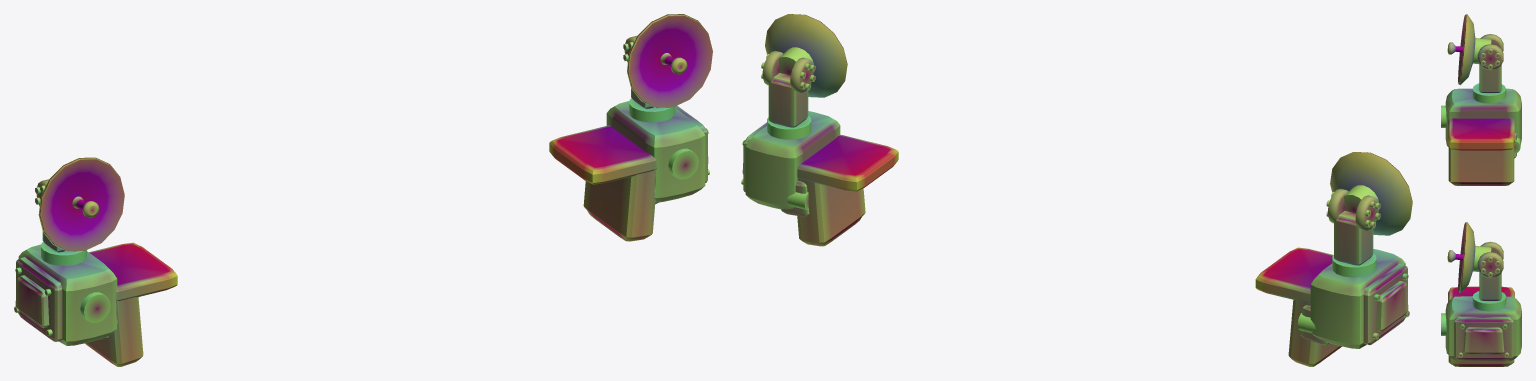
The model's file is llm_gen_shoulder_pods_089_4428ae.glb.
3 renders of one model, left to right at view 1: azimuth 30°, elevation 25°; view 2: azimuth 150°, elevation 25°; view 3: azimuth 270°, elevation 25°, orthographic. The views are drawn at different scales.
Visible parts, largest first — view 1: adapter_shoulder_yoke_r, parabolic_dish_5_wing_white_l, parabolic_dish_5_wing_white_r, adapter_shoulder_yoke_l, radar_housing_0_wing_white_r, radar_housing_0_wing_white_l, adapter_sub_ew_bezel_dark_7_adapter_dark_l, ew_side_plate_blue_8_adapter_dark_l, recon_optic_9_optic_cyan_r, recon_optic_9_optic_cyan_l, adapter_sub_azimuth_base_dark_1_adapter_dark_r, adapter_sub_azimuth_base_dark_1_adapter_dark_l; view 2: adapter_shoulder_yoke_r, radar_housing_0_wing_white_r, radar_housing_0_wing_white_l, adapter_shoulder_yoke_l, parabolic_dish_5_wing_white_l, parabolic_dish_5_wing_white_r, adapter_sub_dish_pedestal_dark_2_adapter_dark_r, adapter_sub_dish_pedestal_dark_2_adapter_dark_l, adapter_sub_ew_bezel_dark_7_adapter_dark_l, ew_side_plate_blue_8_adapter_dark_l, servo_3_servo_accent_r, servo_3_servo_accent_l (+2 smaller); view 3: adapter_shoulder_yoke_l, radar_housing_0_wing_white_l, radar_housing_0_wing_white_r, adapter_sub_ew_bezel_dark_7_adapter_dark_r, ew_side_plate_blue_8_adapter_dark_r, parabolic_dish_5_wing_white_l, parabolic_dish_5_wing_white_r, adapter_shoulder_yoke_r, servo_3_servo_accent_r, servo_3_servo_accent_l, adapter_sub_dish_pedestal_dark_2_adapter_dark_r, adapter_sub_dish_pedestal_dark_2_adapter_dark_l (+11 smaller).
Boxes of the visible parts, box(x1,y1,x2,y2) form: adapter_shoulder_yoke_r: box(549, 125, 658, 241); parabolic_dish_5_wing_white_l: box(38, 157, 124, 251); parabolic_dish_5_wing_white_r: box(627, 14, 712, 107); adapter_shoulder_yoke_l: box(85, 242, 177, 366); radar_housing_0_wing_white_r: box(606, 101, 705, 202); radar_housing_0_wing_white_l: box(18, 244, 117, 345); adapter_sub_ew_bezel_dark_7_adapter_dark_l: box(16, 257, 62, 341); ew_side_plate_blue_8_adapter_dark_l: box(14, 267, 52, 336); recon_optic_9_optic_cyan_r: box(668, 148, 698, 179); recon_optic_9_optic_cyan_l: box(80, 292, 110, 322); adapter_sub_azimuth_base_dark_1_adapter_dark_r: box(629, 98, 675, 122); adapter_sub_azimuth_base_dark_1_adapter_dark_l: box(41, 241, 86, 265); adapter_shoulder_yoke_r: box(797, 134, 898, 246); radar_housing_0_wing_white_r: box(745, 111, 840, 209); radar_housing_0_wing_white_l: box(1310, 249, 1405, 348); adapter_shoulder_yoke_l: box(1255, 247, 1341, 366); parabolic_dish_5_wing_white_l: box(1330, 152, 1412, 235); parabolic_dish_5_wing_white_r: box(765, 14, 847, 97); adapter_sub_dish_pedestal_dark_2_adapter_dark_r: box(768, 73, 808, 127); adapter_sub_dish_pedestal_dark_2_adapter_dark_l: box(1334, 211, 1373, 265); adapter_sub_ew_bezel_dark_7_adapter_dark_l: box(1363, 263, 1407, 345); ew_side_plate_blue_8_adapter_dark_l: box(1372, 273, 1409, 339); servo_3_servo_accent_r: box(762, 50, 814, 93); servo_3_servo_accent_l: box(1328, 188, 1379, 231); adapter_shoulder_yoke_l: box(1448, 118, 1514, 185); radar_housing_0_wing_white_l: box(1445, 88, 1521, 146); radar_housing_0_wing_white_r: box(1445, 296, 1521, 360); adapter_sub_ew_bezel_dark_7_adapter_dark_r: box(1454, 316, 1513, 360); ew_side_plate_blue_8_adapter_dark_r: box(1458, 324, 1509, 357); parabolic_dish_5_wing_white_l: box(1458, 14, 1475, 85); parabolic_dish_5_wing_white_r: box(1458, 222, 1475, 292); adapter_shoulder_yoke_r: box(1448, 286, 1514, 366); servo_3_servo_accent_r: box(1477, 241, 1503, 278); servo_3_servo_accent_l: box(1477, 34, 1503, 70); adapter_sub_dish_pedestal_dark_2_adapter_dark_r: box(1479, 273, 1501, 300); adapter_sub_dish_pedestal_dark_2_adapter_dark_l: box(1479, 65, 1501, 92).
Bounding box in the file's own units: 109 × 32.6 × 15.68.
